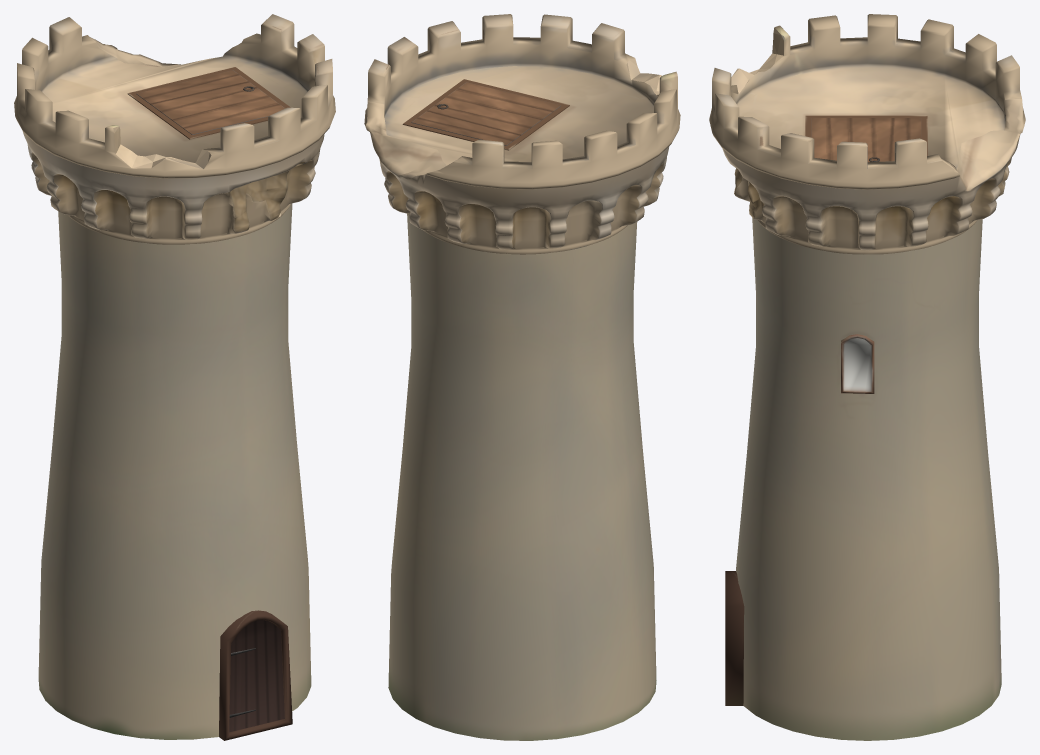
File: TowerDamaged1.gltf
The picture shows the model from 3 angles, left to right: view 1: azimuth 30°, elevation 25°; view 2: azimuth 150°, elevation 25°; view 3: azimuth 270°, elevation 25°; orthographic projection.
Visible parts, largest first — view 1: Cylinder.004; view 2: Cylinder.004; view 3: Cylinder.004.
Part boxes in pixels (left/top/right/bottom): Cylinder.004: left=14, top=14, right=335, bottom=740; Cylinder.004: left=364, top=14, right=680, bottom=740; Cylinder.004: left=709, top=14, right=1025, bottom=740.
Bounding box in the file's own units: 6.29 × 13.24 × 6.29.
Materials: 1 (1 with a texture image).
